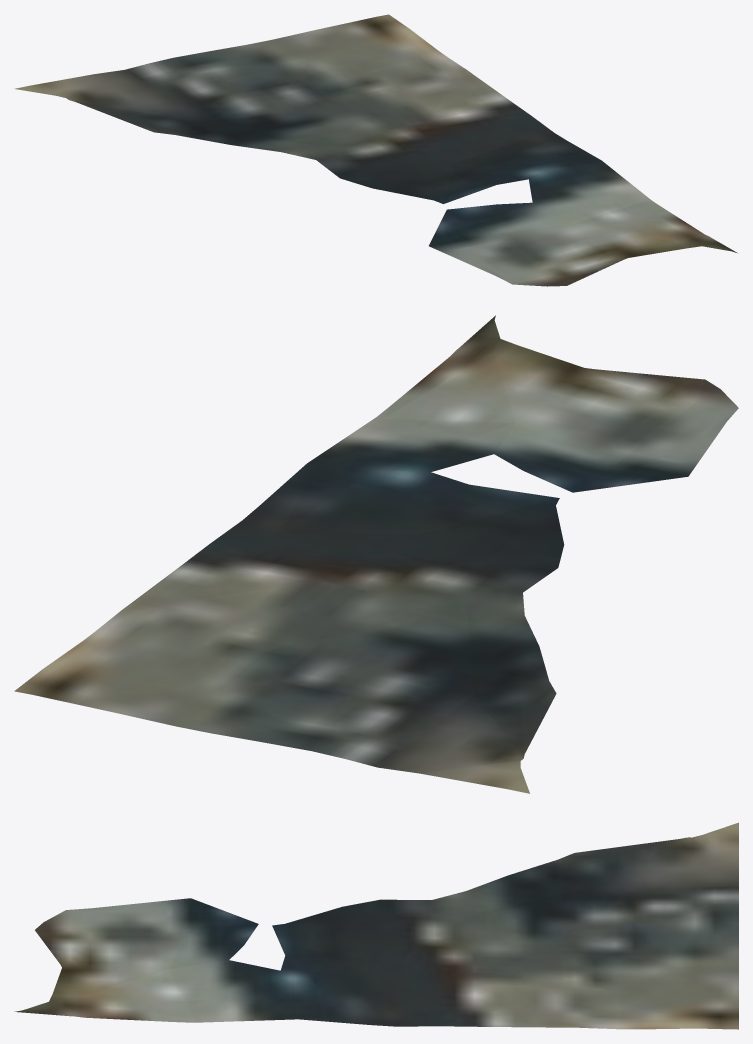
3 renders of one model, top to bottom at view 1: azimuth 30°, elevation 25°; view 2: azimuth 150°, elevation 25°; view 3: azimuth 270°, elevation 25°, orthographic. The views are drawn at different scales.
Size of the model in its own units: 17.89 by 0.7765 by 28.94.
1 material, 1 textured.
